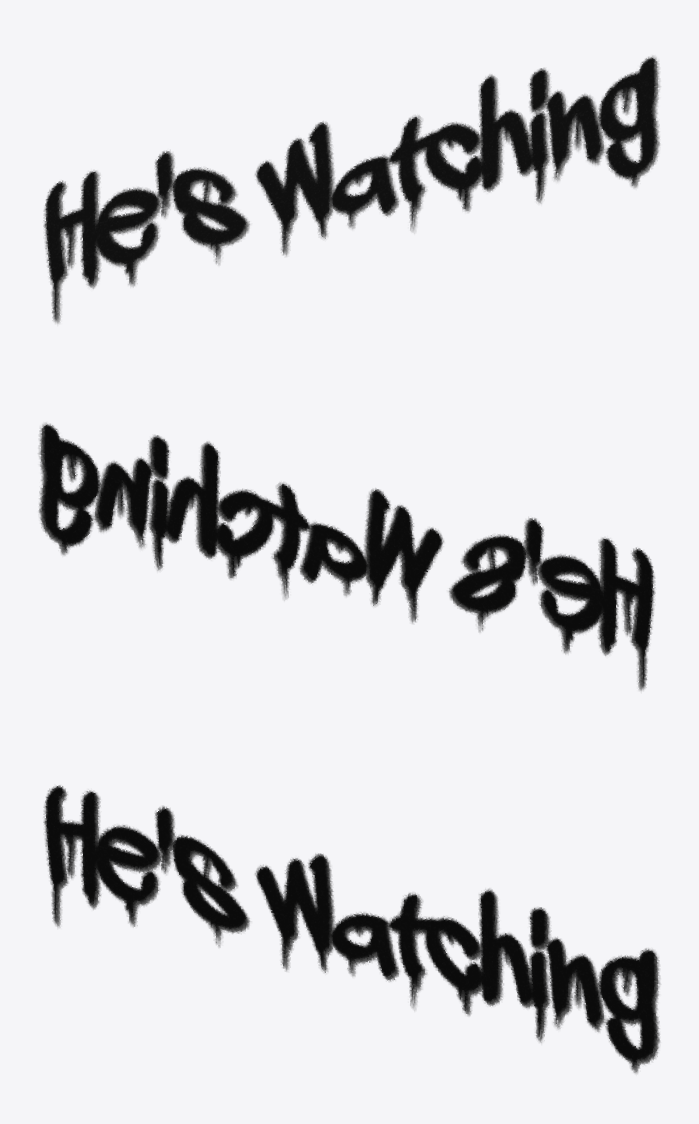
File: graffiti_mx_4.glb
3 renders of one model, top to bottom at view 1: azimuth 30°, elevation 25°; view 2: azimuth 150°, elevation 25°; view 3: azimuth 330°, elevation 25°, orthographic.
Parts seen in each view (by area): view 1: graffiti_mx_4; view 2: graffiti_mx_4; view 3: graffiti_mx_4.
Part boxes in pixels (box(x1,y1,x2,y2)): graffiti_mx_4: box(43, 56, 660, 324); graffiti_mx_4: box(38, 423, 655, 691); graffiti_mx_4: box(43, 785, 660, 1073).
Bounding box in the file's own units: 3.75 × 1.06 × 4.11e-08.
Materials: 1 (1 with a texture image).
